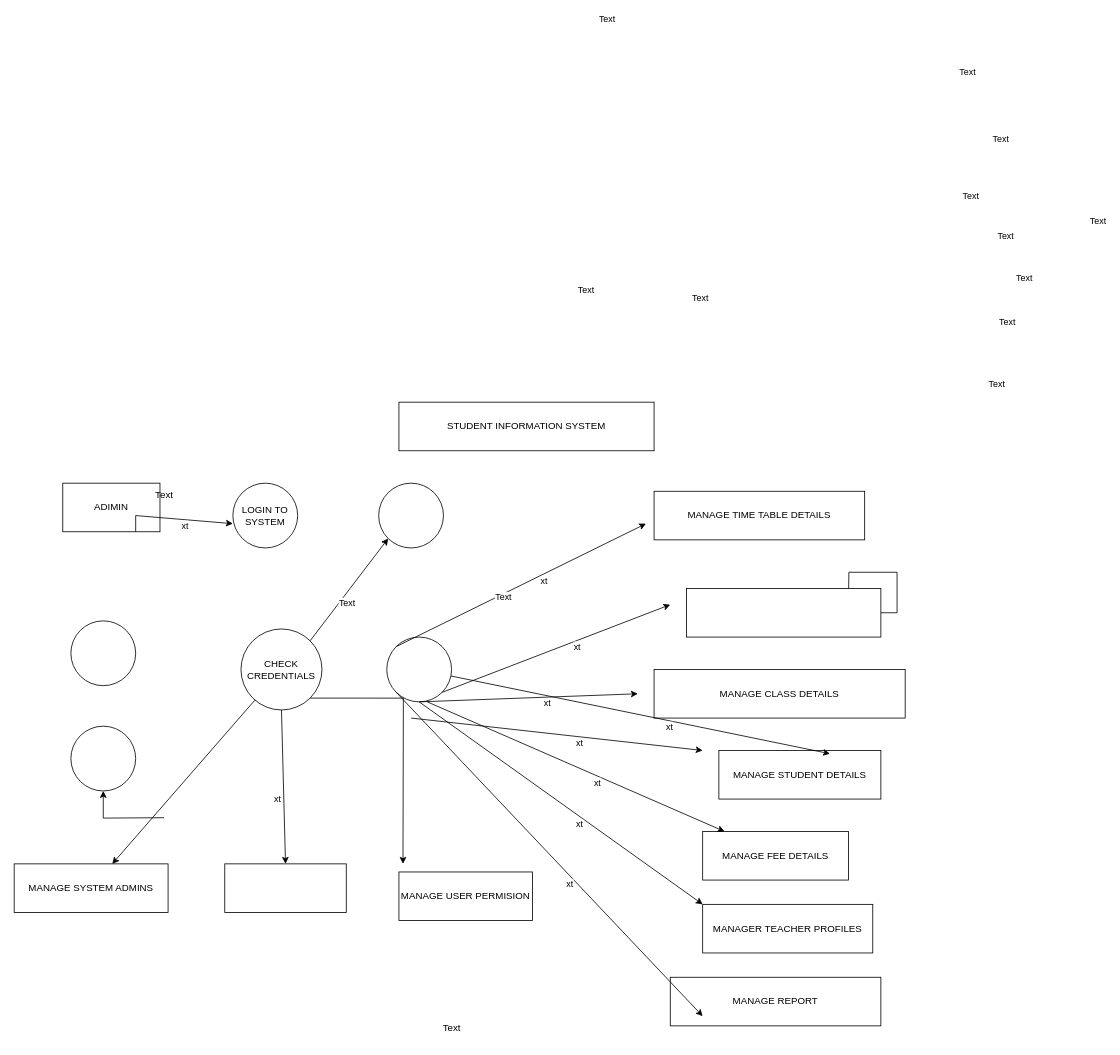
Some shapes in this 1120 by 1055 pixel diagram are drawn without their labels. Each missing label, with the box of its shape:
CHECK ROLLES OF ACCESS: (378, 482, 443, 548)
FORGOT PASSWORD: (70, 620, 136, 686)
MANAGE ATTENDENCE DETAILS: (686, 588, 881, 637)
MANAGE MODULES: (386, 636, 452, 702)
MANAGE ROLES OF USER: (224, 863, 346, 912)
SEND EMAIL TO USER: (70, 725, 136, 791)
